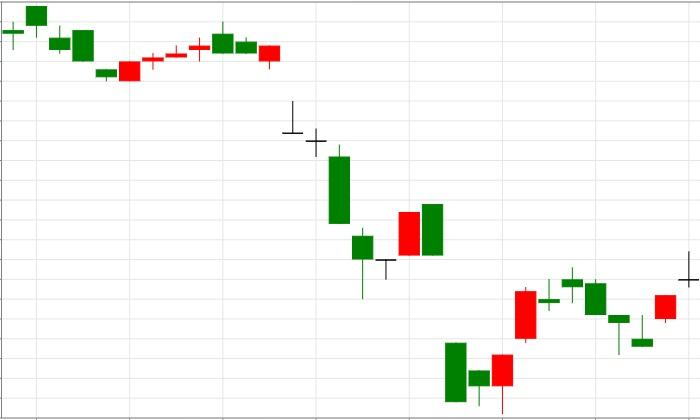bullish_engulfing_rise: (399, 204, 514, 415), (26, 5, 141, 81)
morning_star_rise: (212, 22, 421, 299)
